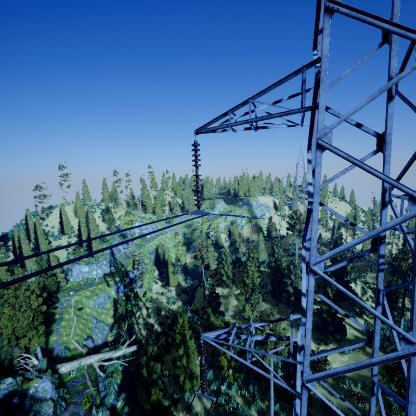insulator: (190, 140, 204, 211)
